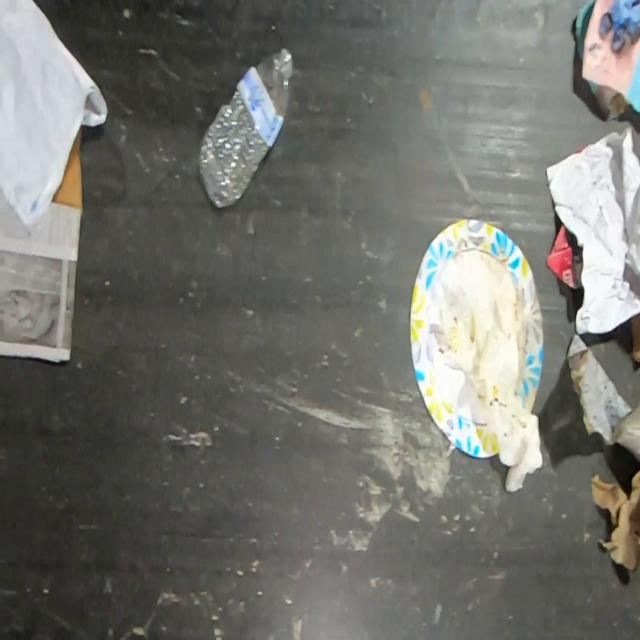cardboard: (408, 217, 544, 458), (590, 469, 640, 570), (52, 126, 82, 212)
rigid_plastic: (198, 48, 294, 207)
